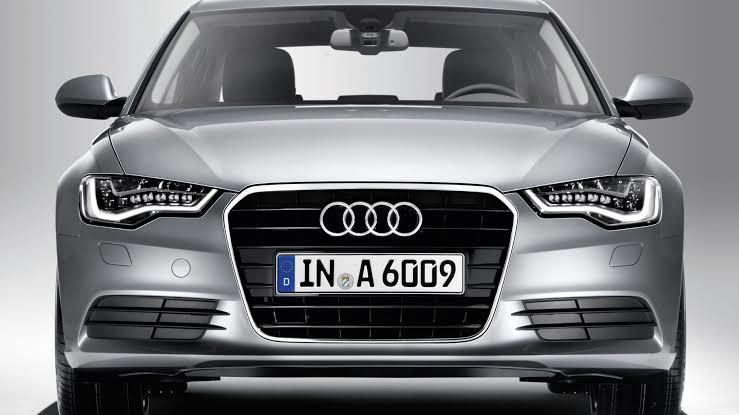audi: (29, 1, 700, 414)
